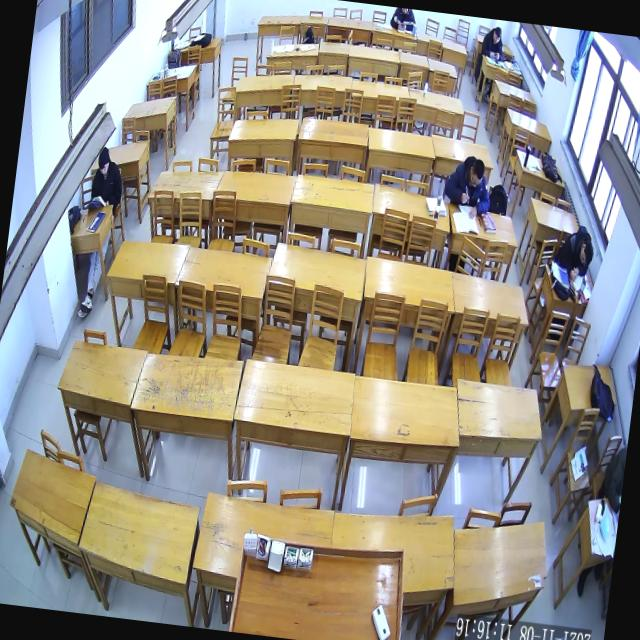down: (466, 156, 486, 192), (94, 146, 112, 178), (577, 238, 595, 269), (491, 26, 503, 46)
sit: (439, 150, 496, 222), (551, 220, 598, 286), (86, 142, 128, 212), (479, 24, 508, 62)
